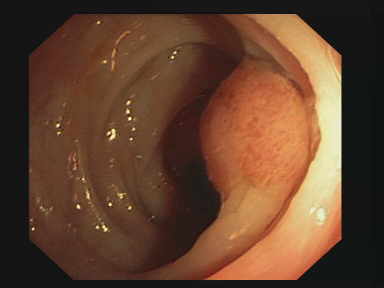polyp: (182, 61, 327, 228)
